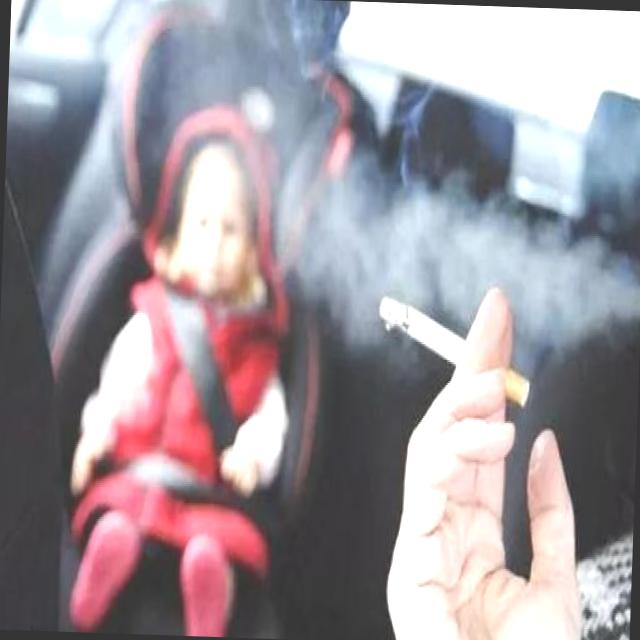smoke: (372, 292, 462, 359)
